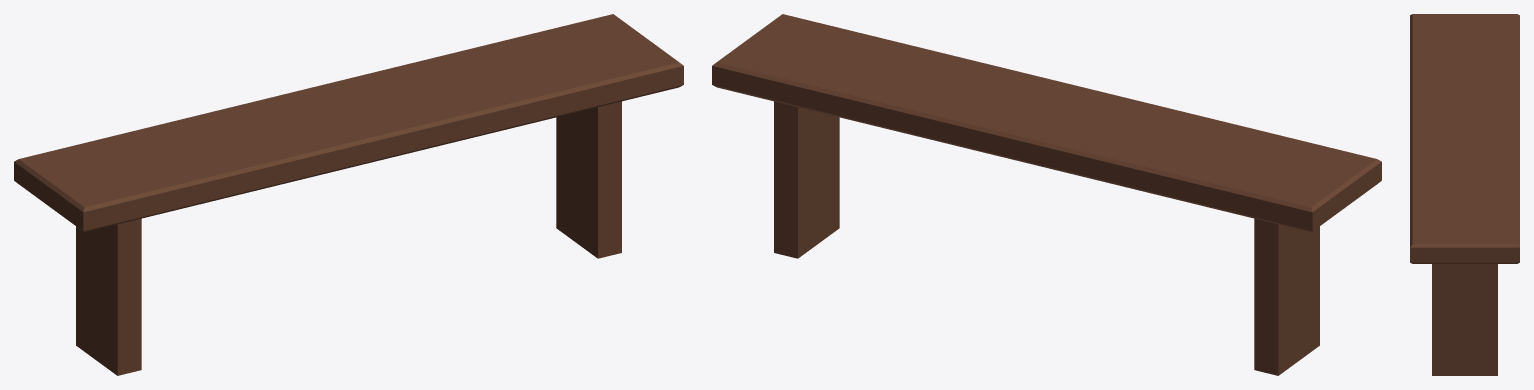
The model's file is Dojo Bench.fbx.
3 renders of one model, left to right at view 1: azimuth 30°, elevation 25°; view 2: azimuth 150°, elevation 25°; view 3: azimuth 270°, elevation 25°, orthographic. The views are drawn at different scales.
Parts seen in each view (by area): view 1: Dojo Bench; view 2: Dojo Bench; view 3: Dojo Bench.
Part boxes in pixels (left/top/right/bottom): Dojo Bench: left=14, top=14, right=683, bottom=375; Dojo Bench: left=712, top=14, right=1381, bottom=375; Dojo Bench: left=1410, top=14, right=1519, bottom=375.
Bounding box in the file's own units: 1000 × 300 × 200.
